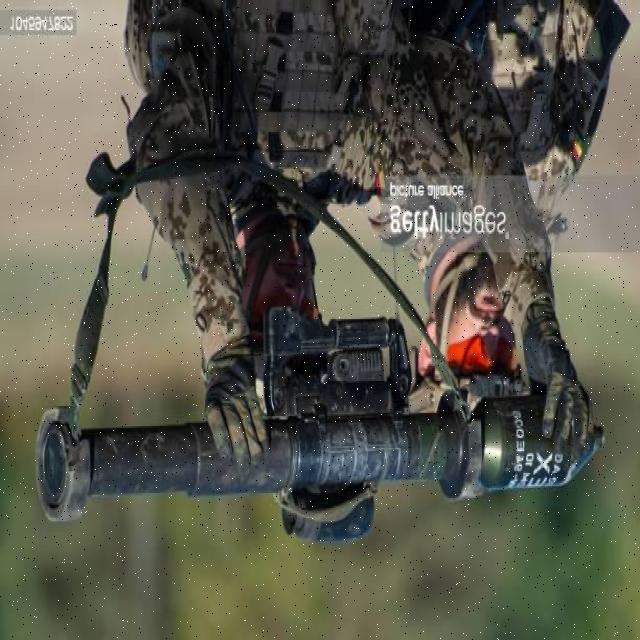bazooka: (30, 296, 615, 564)
